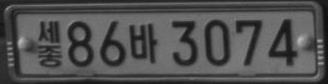0: (203, 18, 231, 65)
3: (170, 20, 198, 66)
4: (268, 17, 299, 65)
6: (98, 21, 126, 67)
7: (235, 18, 263, 66)
8: (66, 20, 94, 67)
바: (127, 22, 158, 64)
세종_V: (37, 20, 62, 67)
